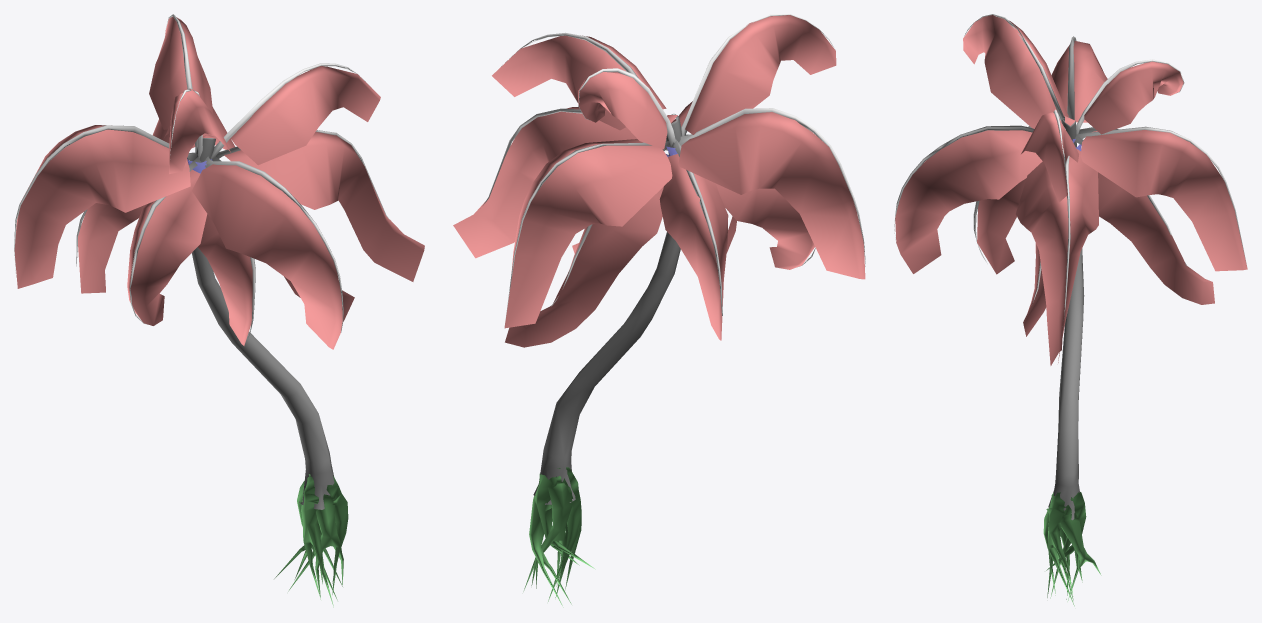
File: SM_PalmTreeA.gltf
3 renders of one model, left to right at view 1: azimuth 30°, elevation 25°; view 2: azimuth 150°, elevation 25°; view 3: azimuth 270°, elevation 25°, orthographic. The views are drawn at different scales.
Parts seen in each view (by area): view 1: SM_PalmTreeA; view 2: SM_PalmTreeA; view 3: SM_PalmTreeA.
Boxes of the visible parts, x1=… form: SM_PalmTreeA: x1=14, y1=14, x2=424, y2=607; SM_PalmTreeA: x1=453, y1=14, x2=865, y2=607; SM_PalmTreeA: x1=894, y1=14, x2=1247, y2=606.
Bounding box in the file's own units: 6.31 × 8.69 × 5.45.
